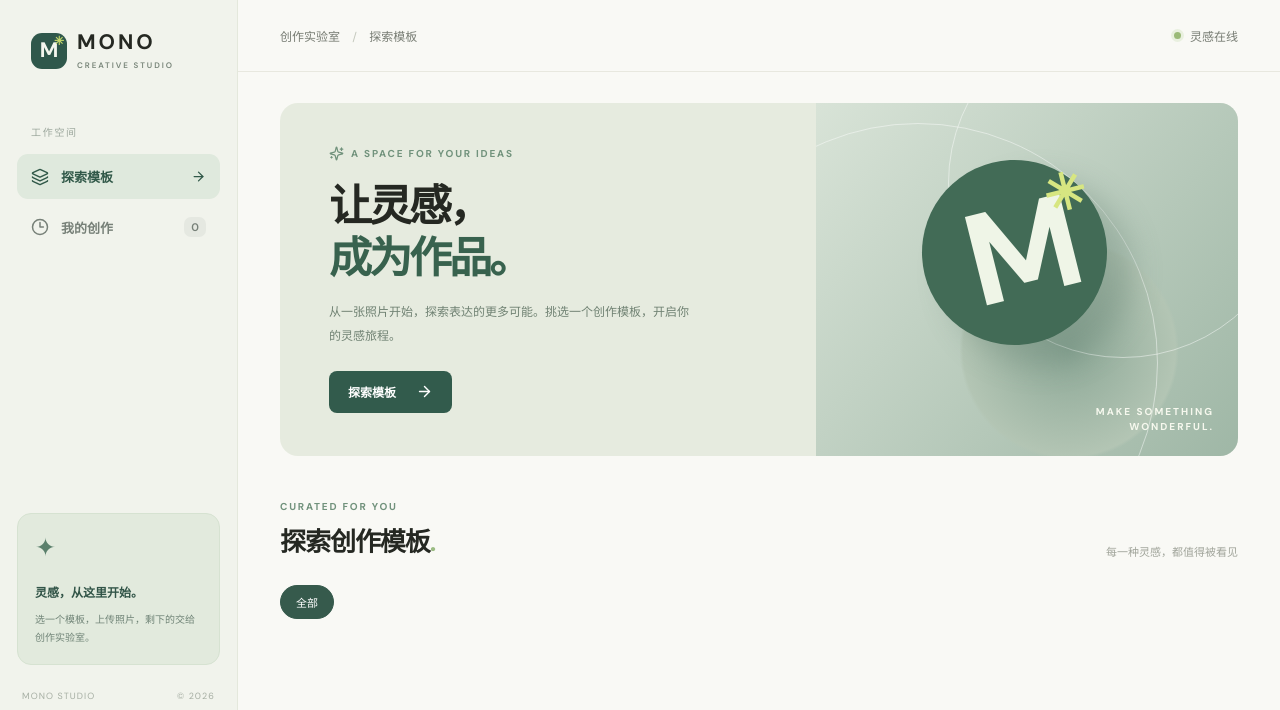
Test case: 个人任务界面 › 查询暂时不可用时保留后台任务状态
Click the button "我的创作 0": (118, 227) [17,204,220,250]
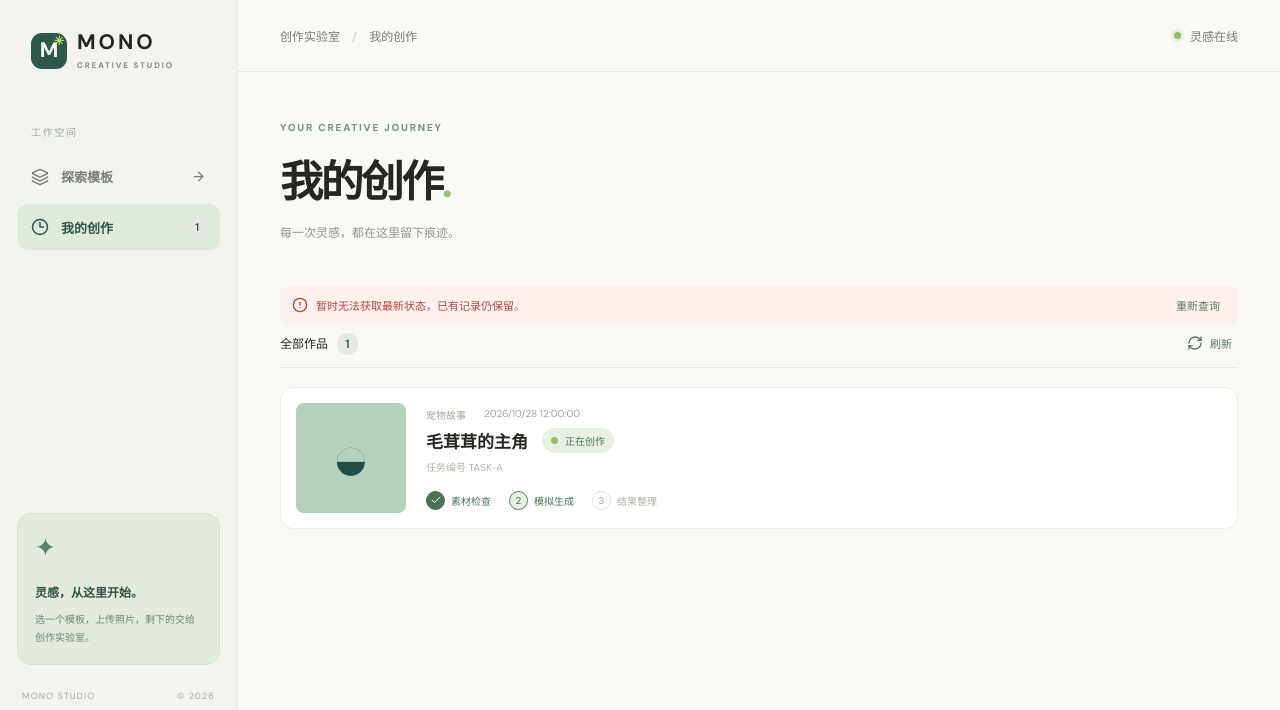
Now the text "暂时无法获取最新状态，已有记录仍保留。 重新查询" is shown, box [280,286,1238,324]
Now the text "正在创作" is shown, box [542,428,614,452]
